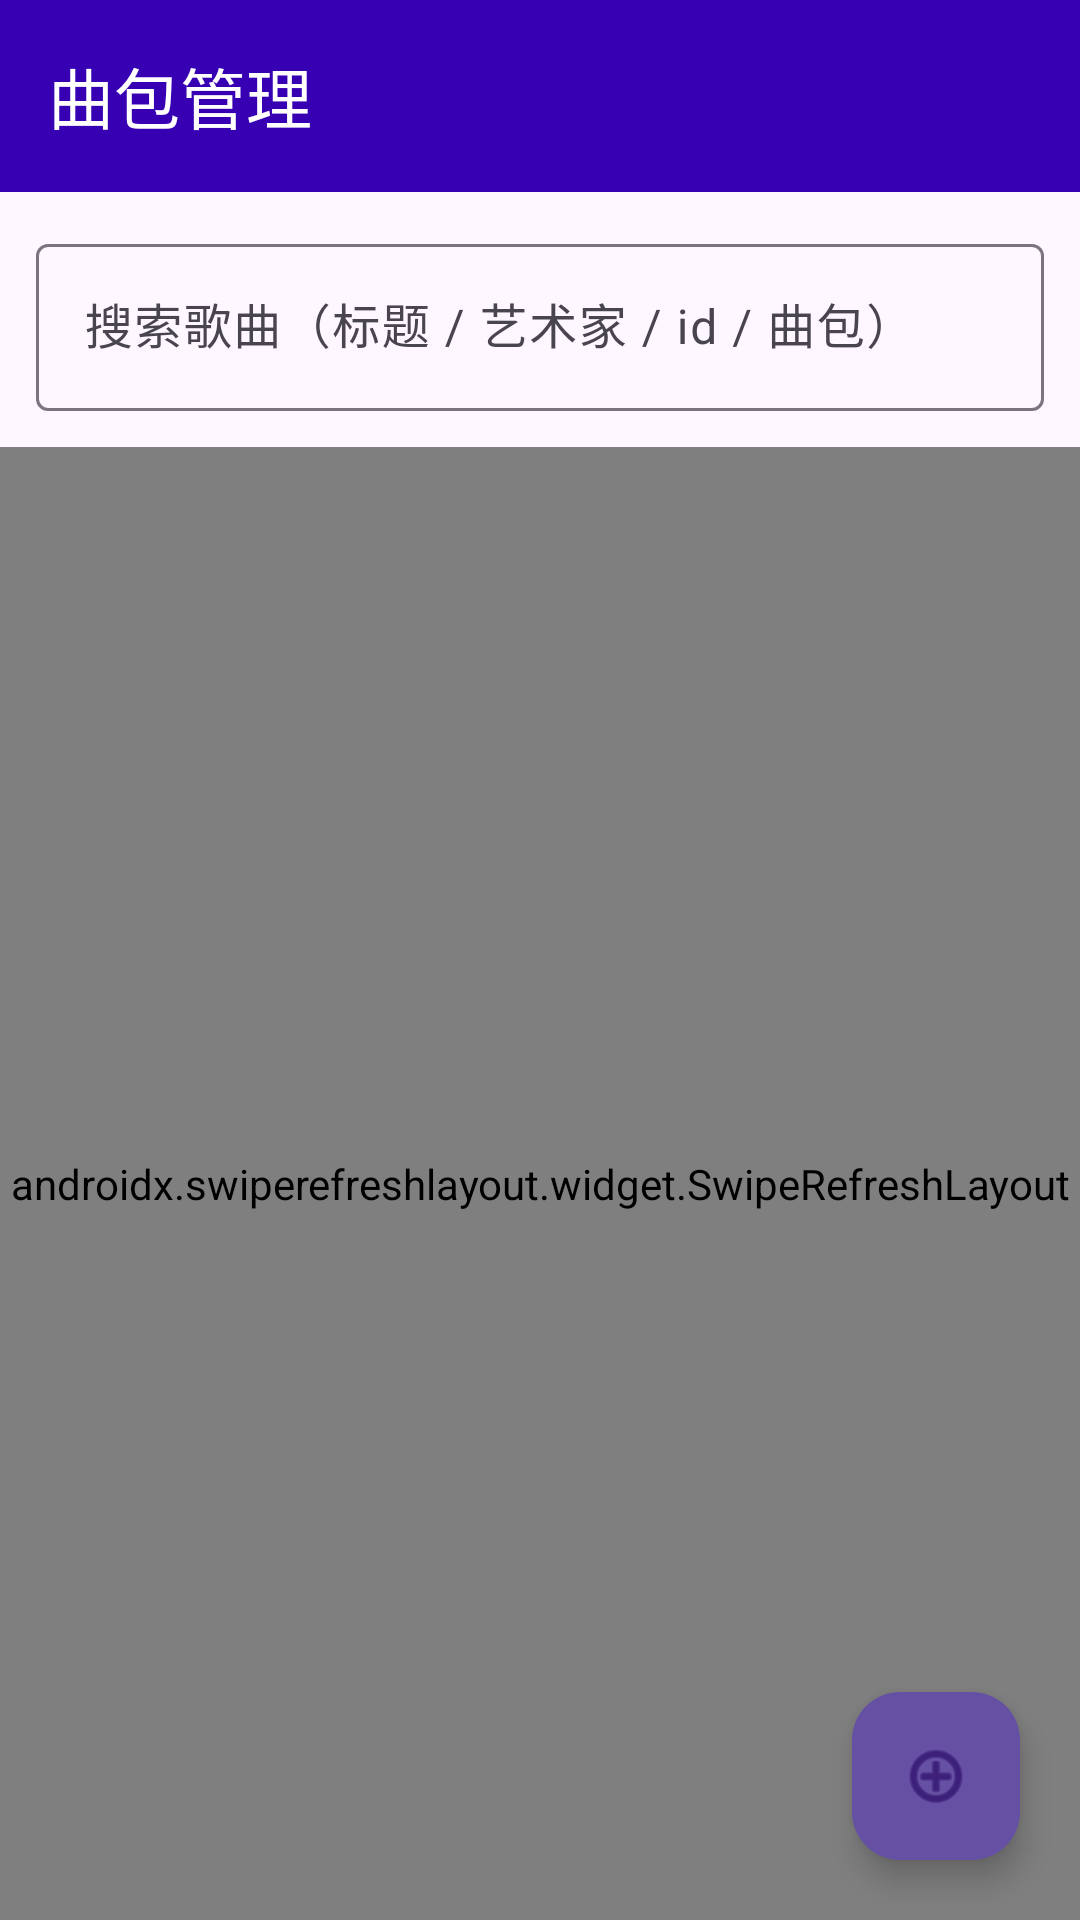

Icon click points for this 1080w x 1920h phone screenshot, format (x,y):
新建曲包: (936,1776)
